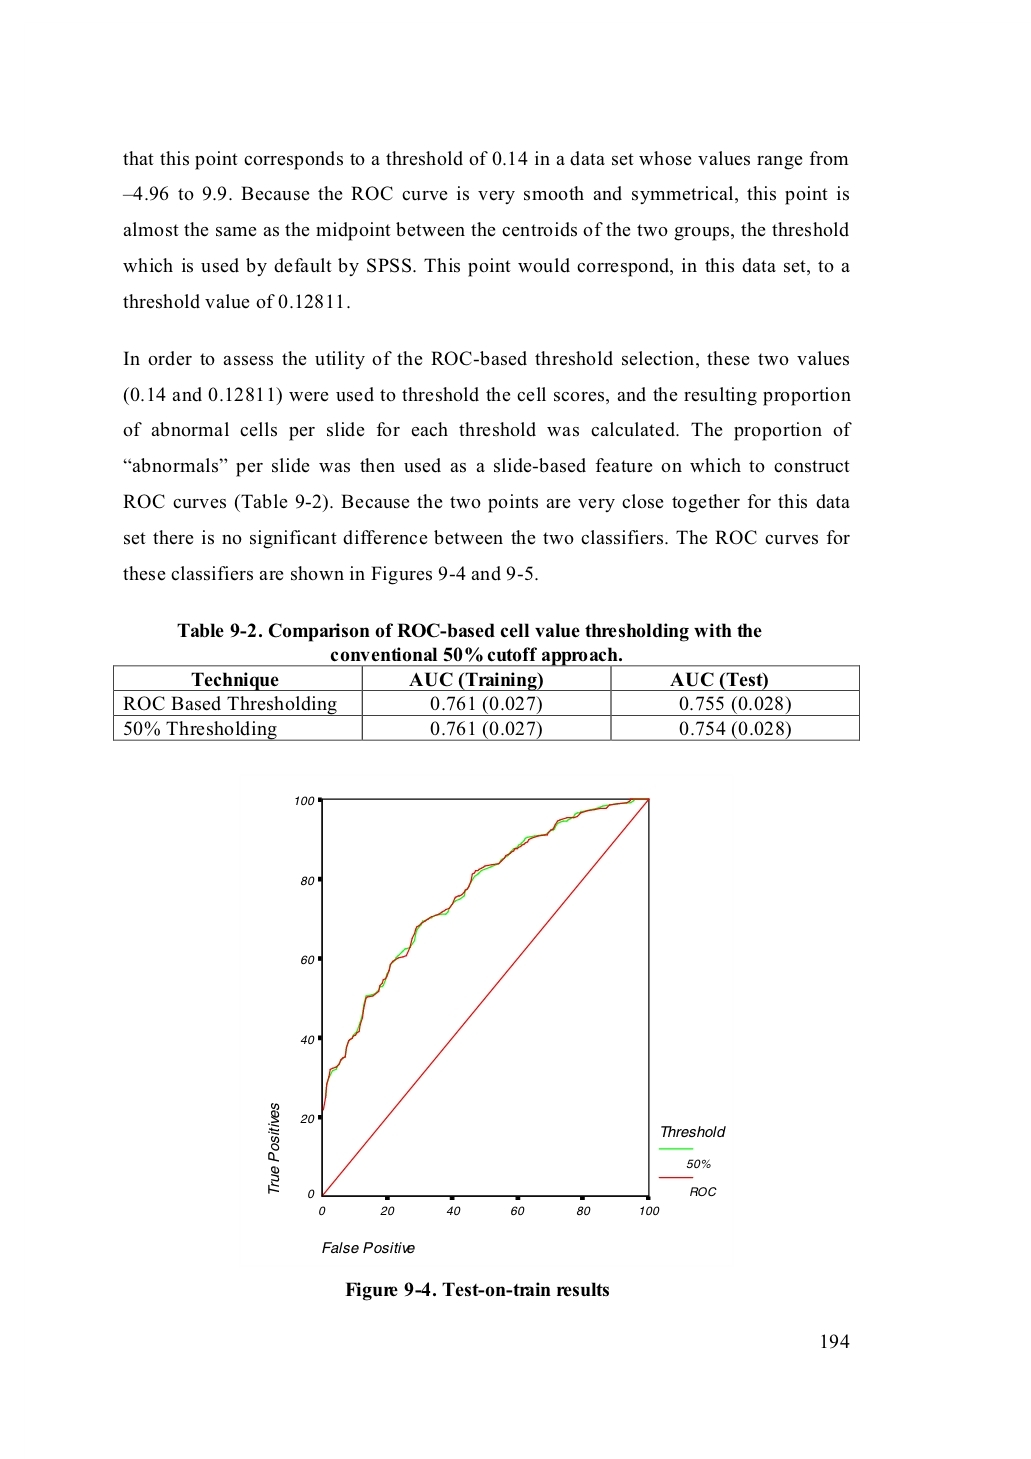Table: (113, 645, 859, 741)
figure: (268, 796, 725, 1215)
